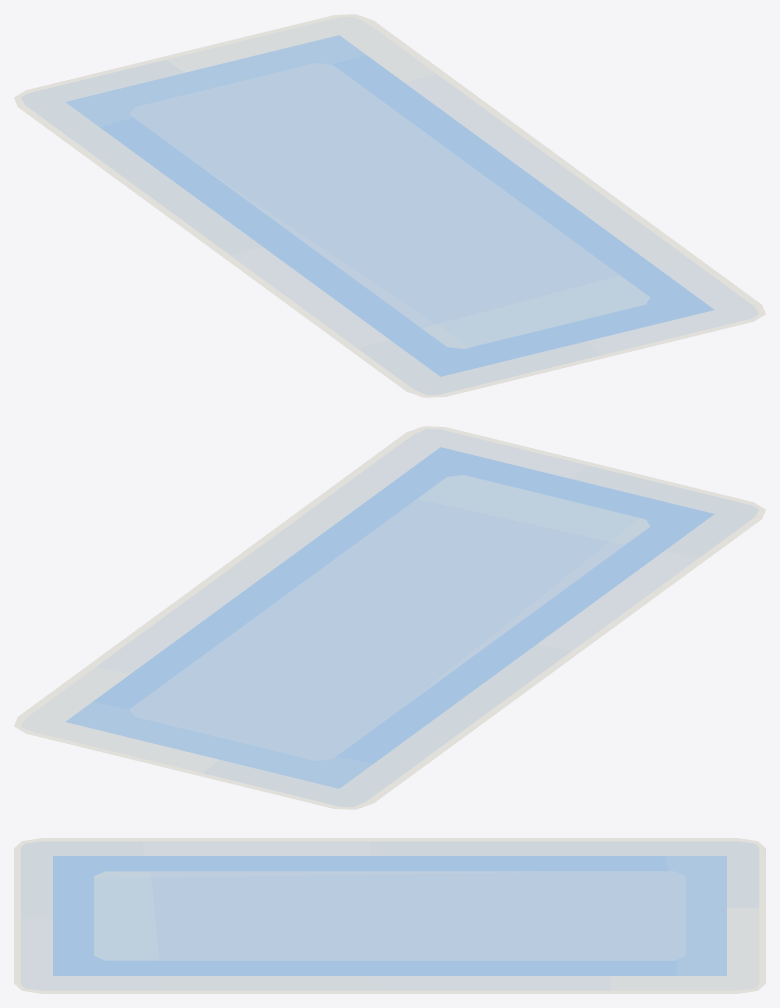
File: my_seahouse_01_mat.glb
The picture shows the model from 3 angles, top to bottom: view 1: azimuth 30°, elevation 25°; view 2: azimuth 150°, elevation 25°; view 3: azimuth 270°, elevation 25°; orthographic projection. The views are drawn at different scales.
Visible parts, largest first — view 1: my_seahouse_01_mat; view 2: my_seahouse_01_mat; view 3: my_seahouse_01_mat.
Boxes of the visible parts, x1,y1,x2,y2 form: my_seahouse_01_mat: (14, 14, 765, 397); my_seahouse_01_mat: (14, 426, 765, 809); my_seahouse_01_mat: (14, 838, 765, 993).
Bounding box in the file's own units: 0.00497 × 0 × 0.0101.
Materials: 1 (1 with a texture image).
